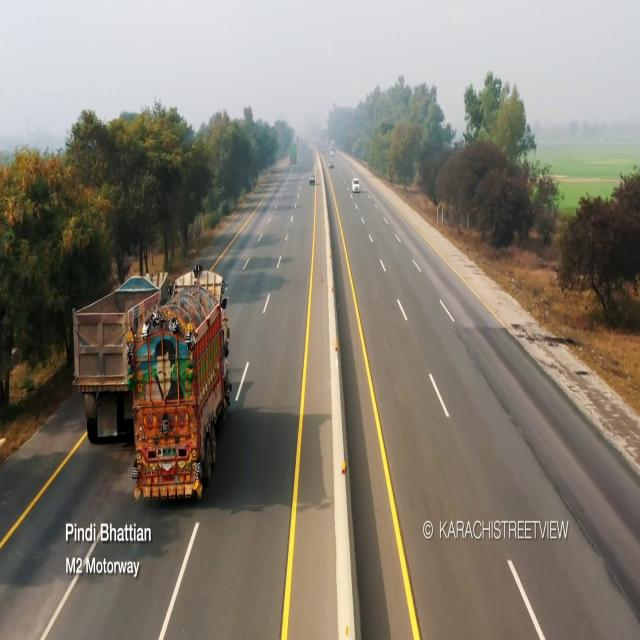car: (350, 178, 363, 199), (310, 174, 316, 187), (330, 161, 336, 171), (330, 148, 335, 157)
truck: (128, 270, 231, 516), (71, 206, 162, 450), (289, 143, 298, 171)
